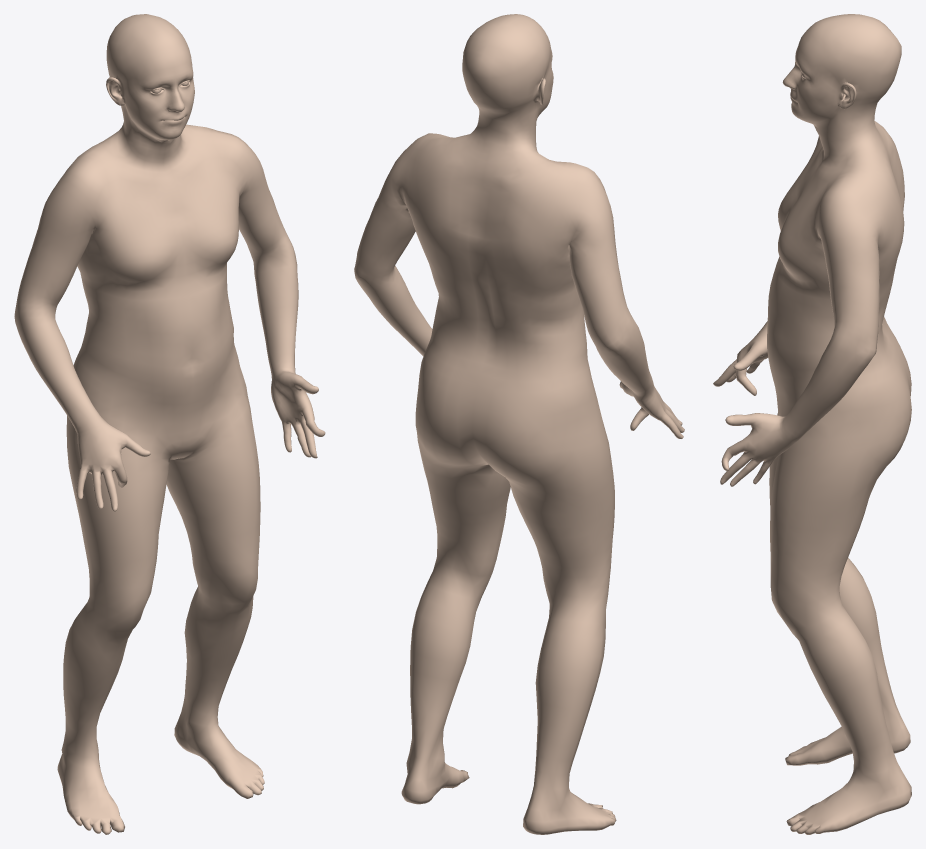
Rendered from WORD-01479.glb.
3 views of the same model, side by side, from view 1: azimuth 30°, elevation 25°; view 2: azimuth 150°, elevation 25°; view 3: azimuth 270°, elevation 25° (orthographic). The views are drawn at different scales.
Bounding box in the file's own units: 0.6199 × 1.72 × 0.3991.
